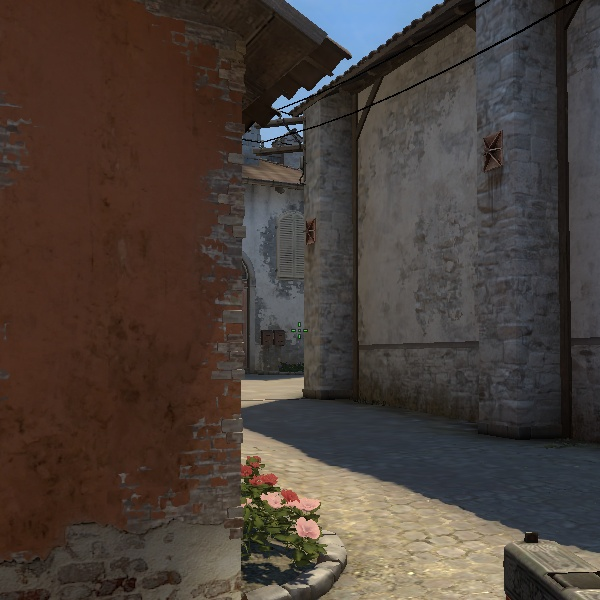ct_body: (227, 442, 331, 596)
ct_head: (237, 447, 277, 487)
